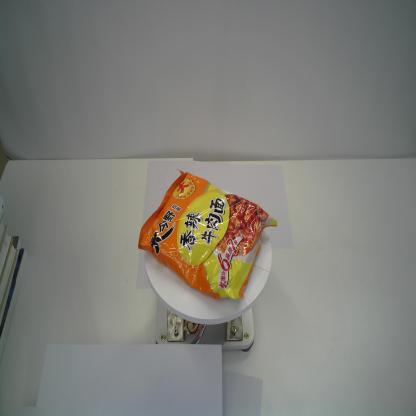Instant Noodles: (137, 167, 278, 301)
